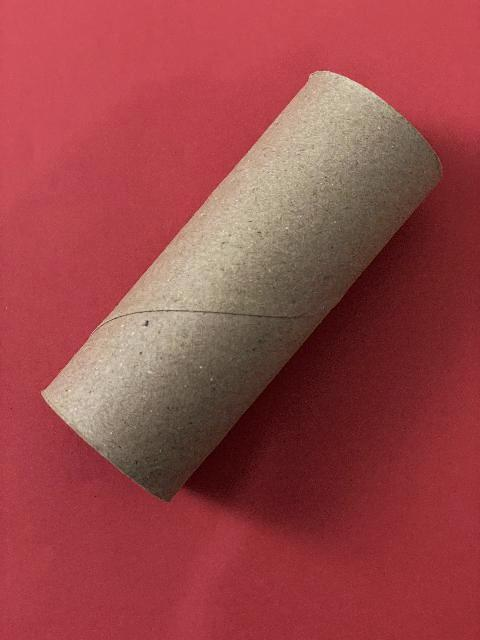tissueroll: (38, 68, 446, 506)
